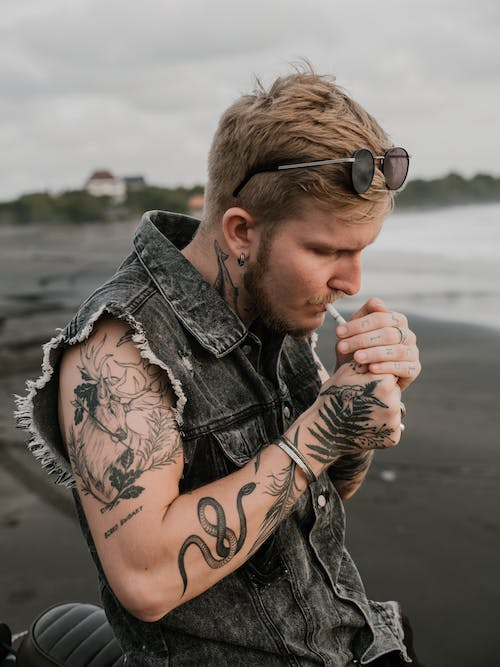cigarette: (323, 301, 349, 328)
